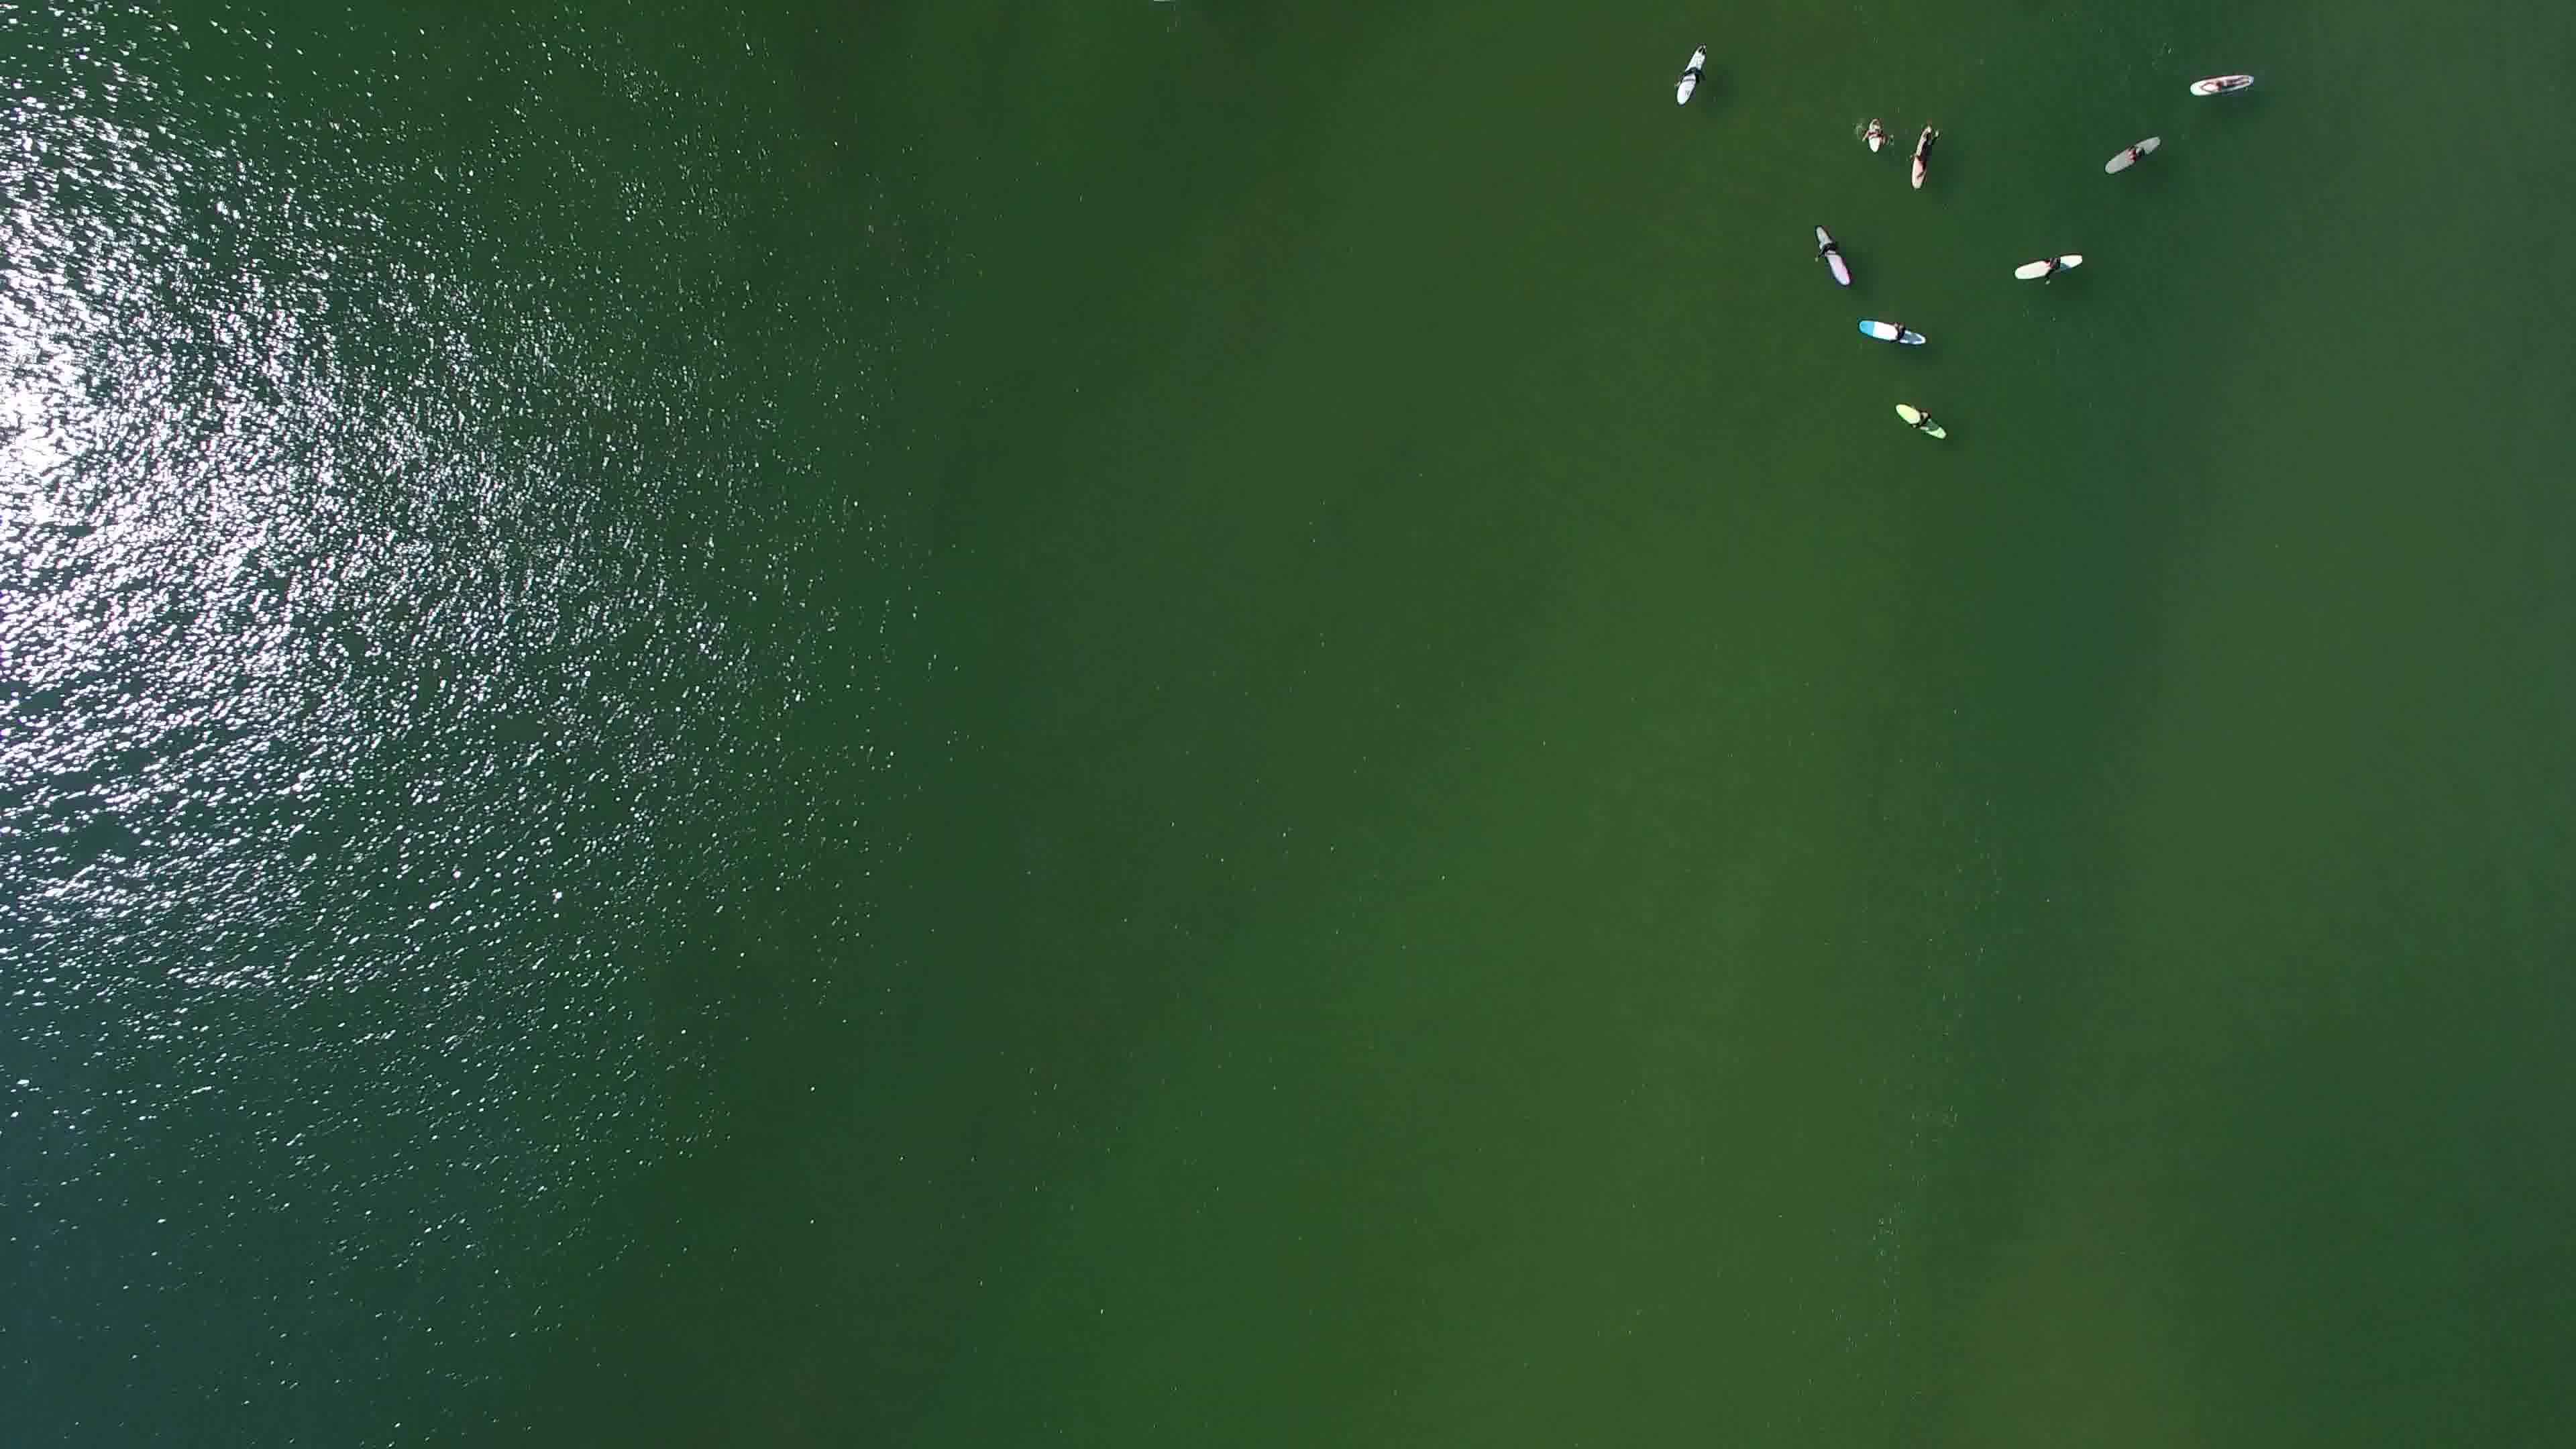surfer: (2098, 129, 2171, 179), (2012, 244, 2088, 288), (2183, 67, 2261, 108), (1893, 395, 1957, 444), (1858, 311, 1937, 350), (1904, 120, 1944, 196), (1670, 46, 1718, 110), (1813, 219, 1854, 288), (1859, 115, 1890, 163)
